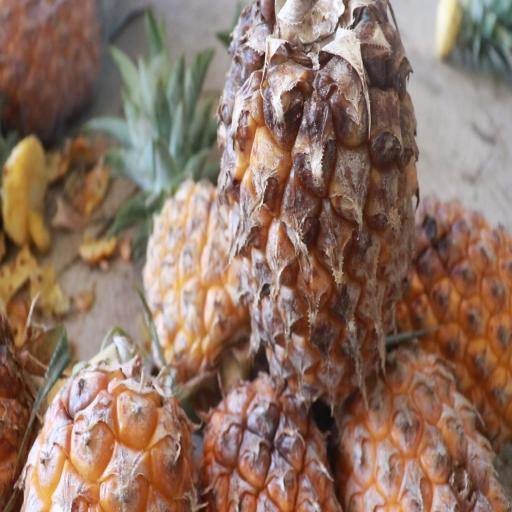Pineapple - v8 v1: (212, 0, 419, 411), (142, 80, 270, 394), (15, 318, 196, 512), (332, 333, 510, 512), (195, 356, 335, 512)
